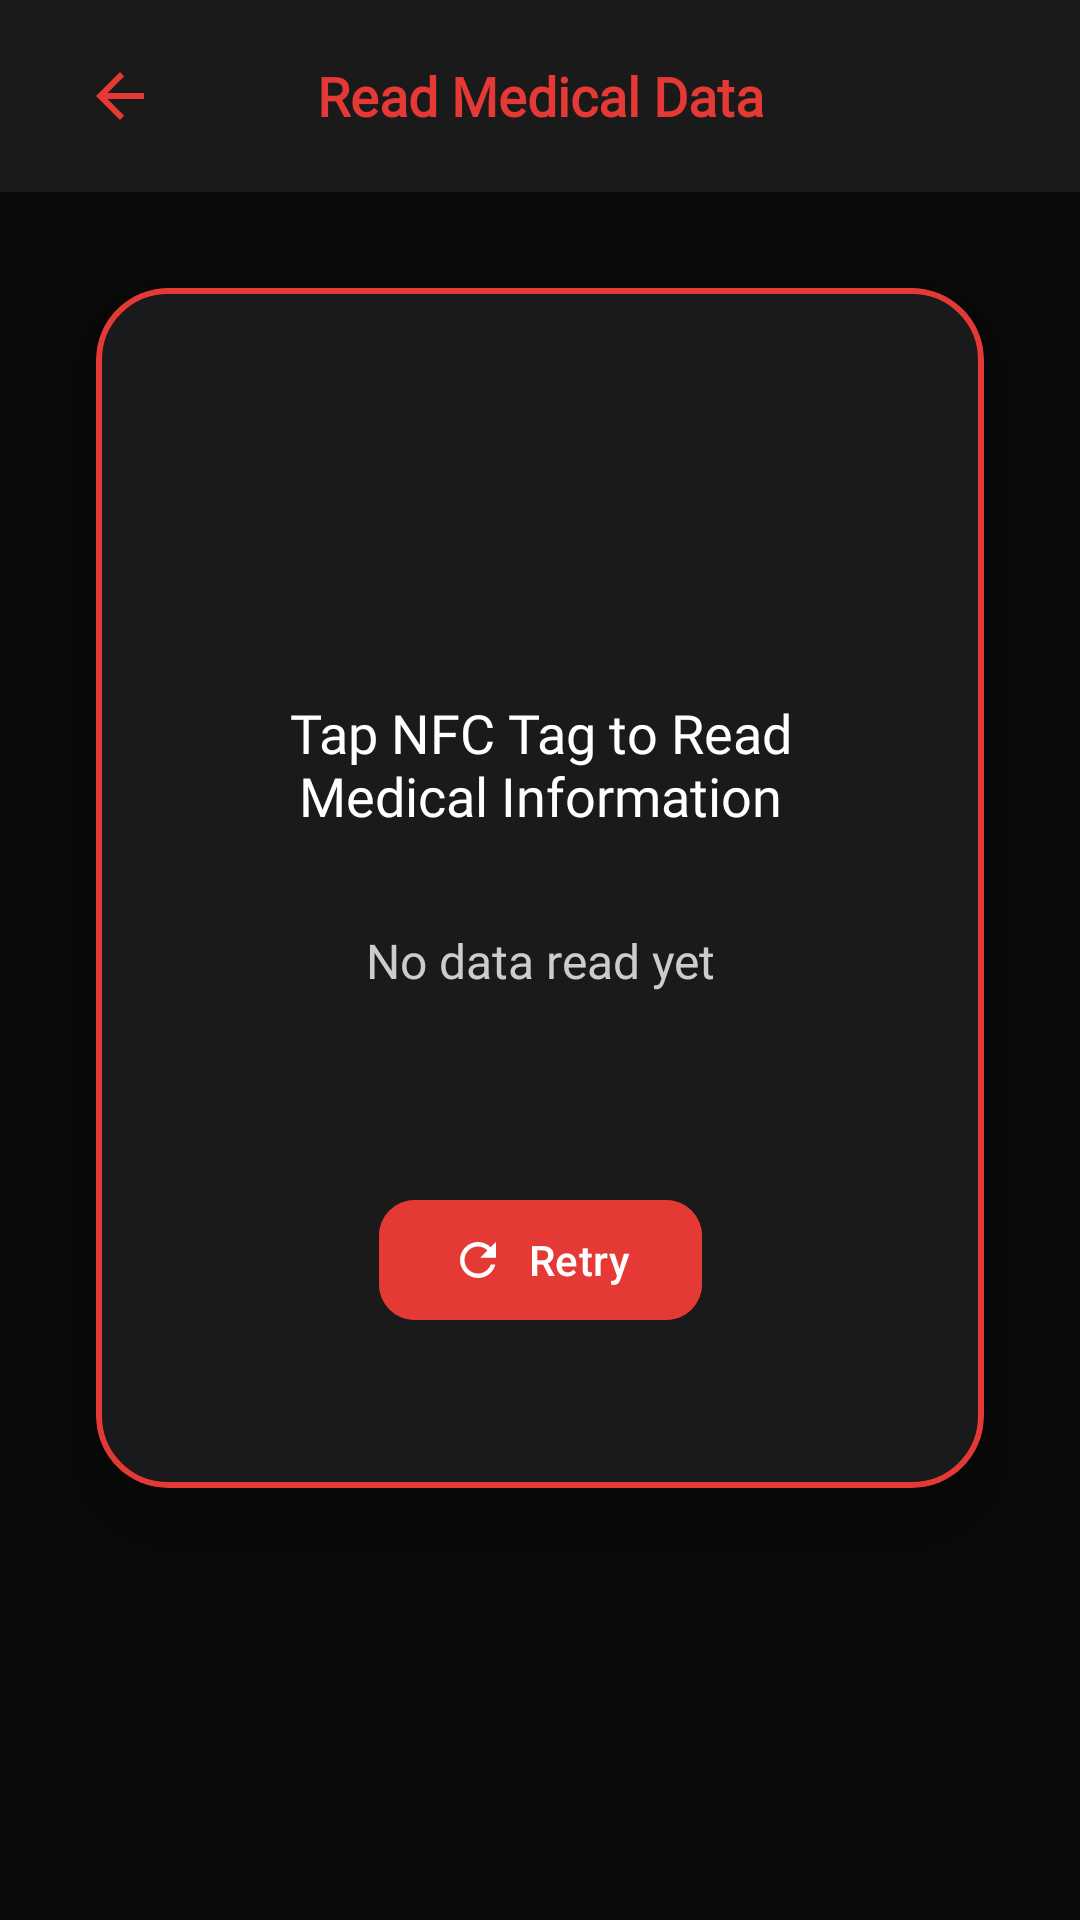

Screen size 1080x1920. Icon name, then its center in pixels as (x=x, y=y):
Back: (x=120, y=96)
